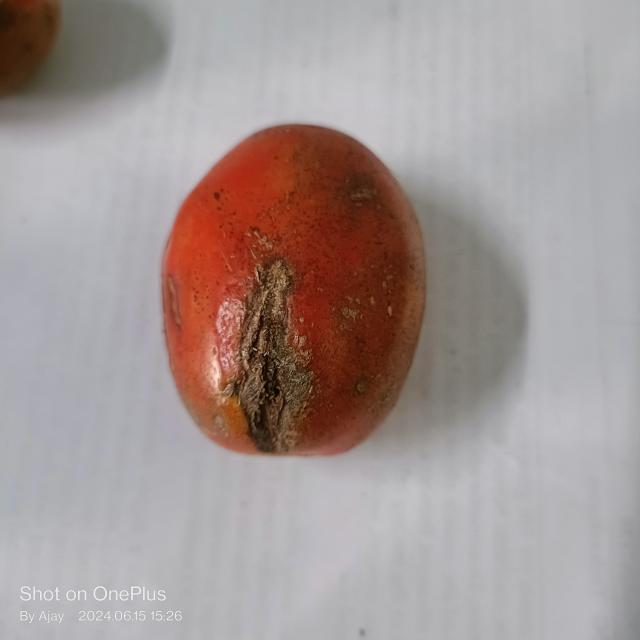tomato_cracking: (226, 226, 325, 465)
